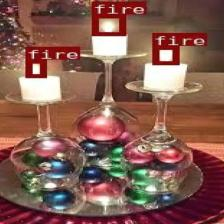fire: (92, 14, 124, 35), (152, 45, 178, 64), (24, 59, 45, 77)
